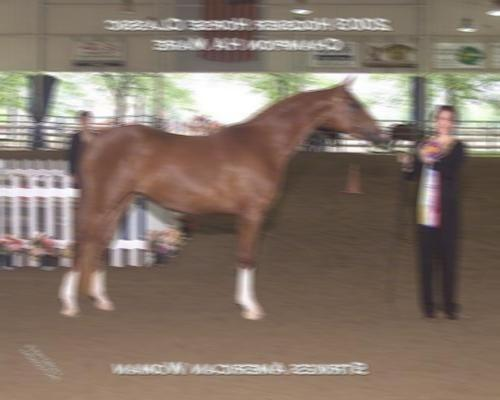horse: (59, 73, 386, 320), (386, 122, 428, 154)
